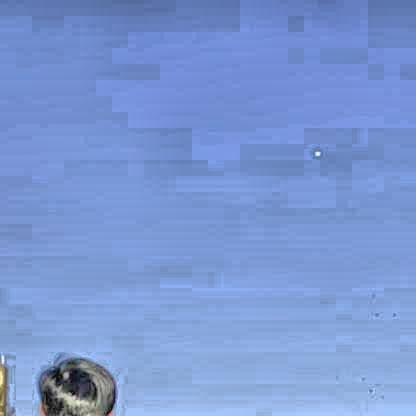golfball: (309, 146, 319, 156)
